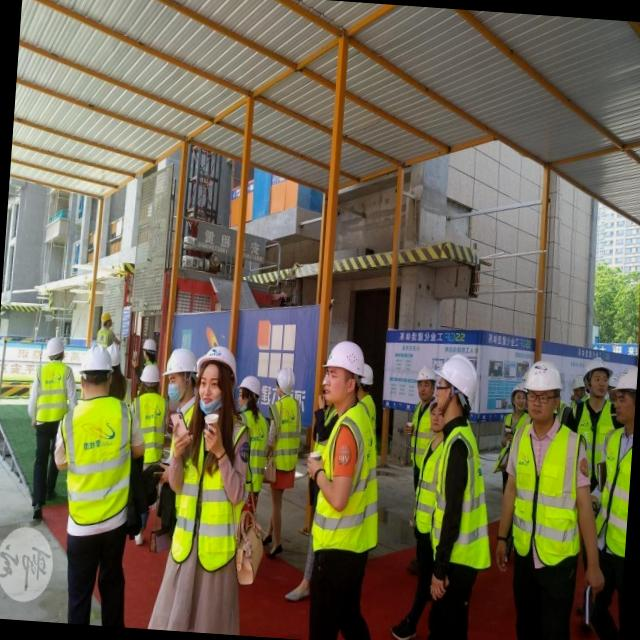helmet: (430, 348, 484, 398), (522, 360, 568, 400), (323, 338, 372, 373), (74, 346, 116, 376)
vest: (494, 419, 586, 577), (306, 402, 386, 552), (58, 388, 133, 532), (431, 429, 488, 567)
